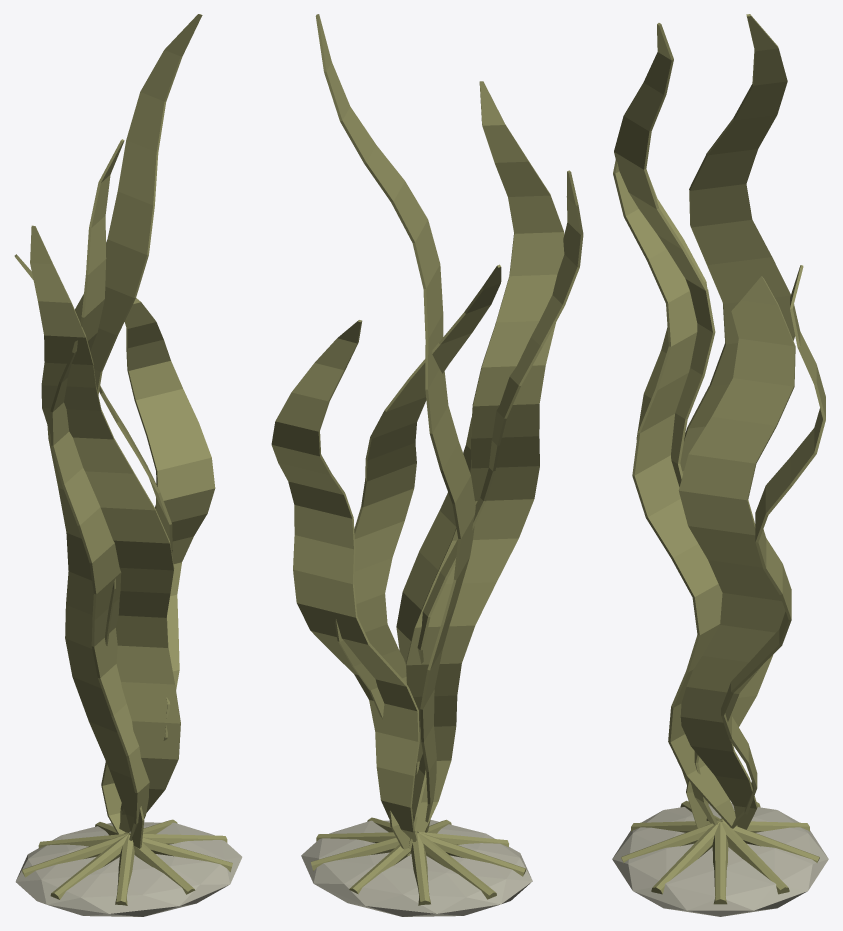
3 views of the same model, side by side, from view 1: azimuth 30°, elevation 25°; view 2: azimuth 150°, elevation 25°; view 3: azimuth 270°, elevation 25° (orthographic). The views are drawn at different scales.
Visible parts, largest first — view 1: CE-012 Broad-bladed kelp holdfast batched; view 2: CE-012 Broad-bladed kelp holdfast batched; view 3: CE-012 Broad-bladed kelp holdfast batched.
Part boxes in pixels (left/top/right/bottom): CE-012 Broad-bladed kelp holdfast batched: left=14, top=14, right=242, bottom=916; CE-012 Broad-bladed kelp holdfast batched: left=271, top=14, right=583, bottom=916; CE-012 Broad-bladed kelp holdfast batched: left=612, top=14, right=828, bottom=916.
Size of the model in its own units: 0.2934 by 1.02 by 0.22.
